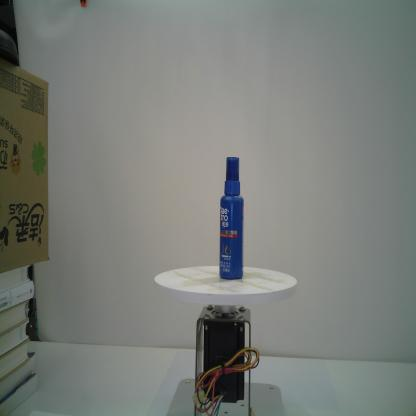Personal Hygiene: (219, 157, 244, 280)
